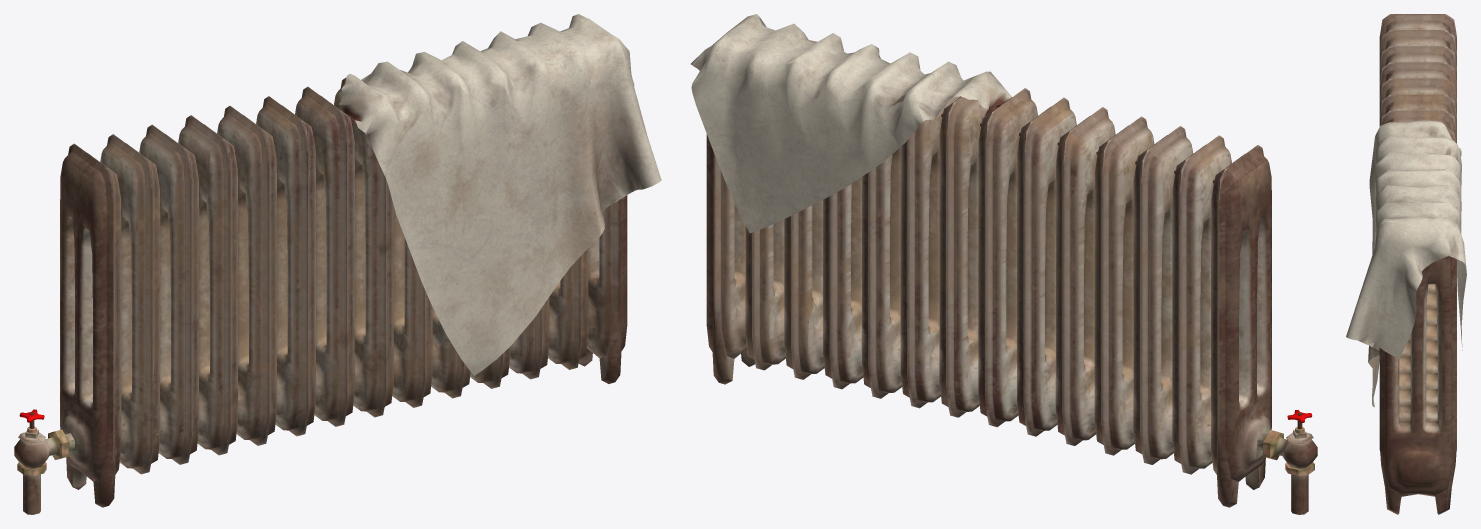
Rendered from radiator.glb.
The picture shows the model from 3 angles, left to right: view 1: azimuth 30°, elevation 25°; view 2: azimuth 150°, elevation 25°; view 3: azimuth 270°, elevation 25°; orthographic projection. The views are drawn at different scales.
Parts seen in each view (by area): view 1: Radiator_low, Plane_1; view 2: Radiator_low, Plane_1; view 3: Radiator_low, Plane_1.
Part boxes in pixels (bbox=[...]): Radiator_low: bbox=[14, 77, 627, 514]; Plane_1: bbox=[339, 14, 661, 375]; Radiator_low: bbox=[706, 88, 1317, 514]; Plane_1: bbox=[691, 14, 1011, 233]; Radiator_low: bbox=[1379, 14, 1456, 514]; Plane_1: bbox=[1346, 120, 1466, 407].
Bounding box in the file's own units: 1.43 × 0.78 × 0.2868.
2 materials, 2 textured.
